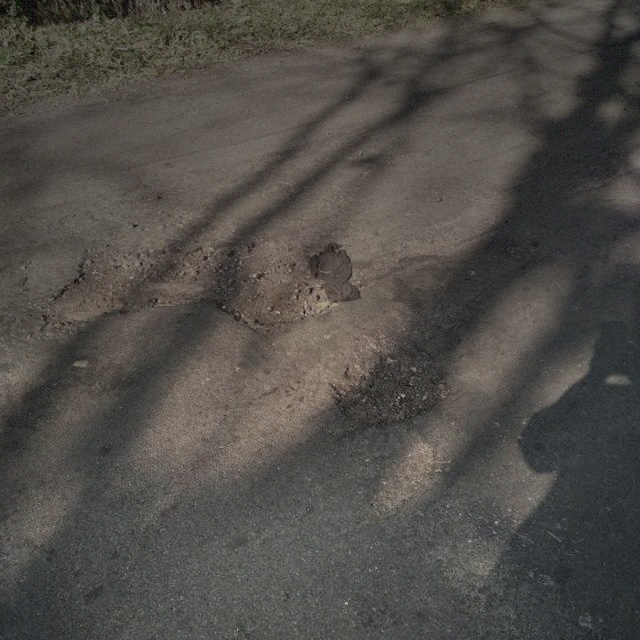pothole: (36, 235, 342, 338), (326, 342, 452, 426)
